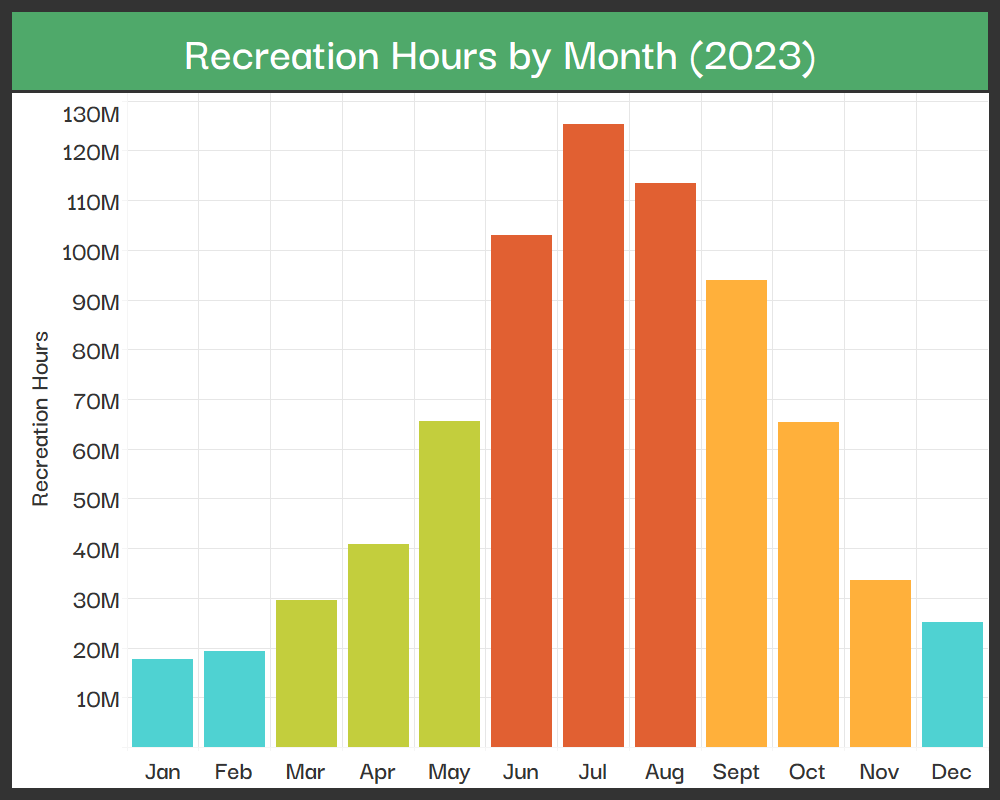

The page's visual inventory and layout, read from the dashboard file:
{"tool":"tableau","page":{"name":"RH by Month","canvas":[1000,800],"ordinal":1},"visuals":[{"type":"worksheet","title":"Recreation Hours by Month in 2023","mark":"Automatic","rows":["RecreationHours"],"cols":["Month"],"box":[8,8,984,784]}]}

Visuals, with their boxes in screenshot pixels (x1, y1, x2, y2), scaled from the page's 1000x800 canvas onto the 1000x800 screenshot:
"Recreation Hours by Month in 2023" worksheet: [8, 8, 992, 792]
